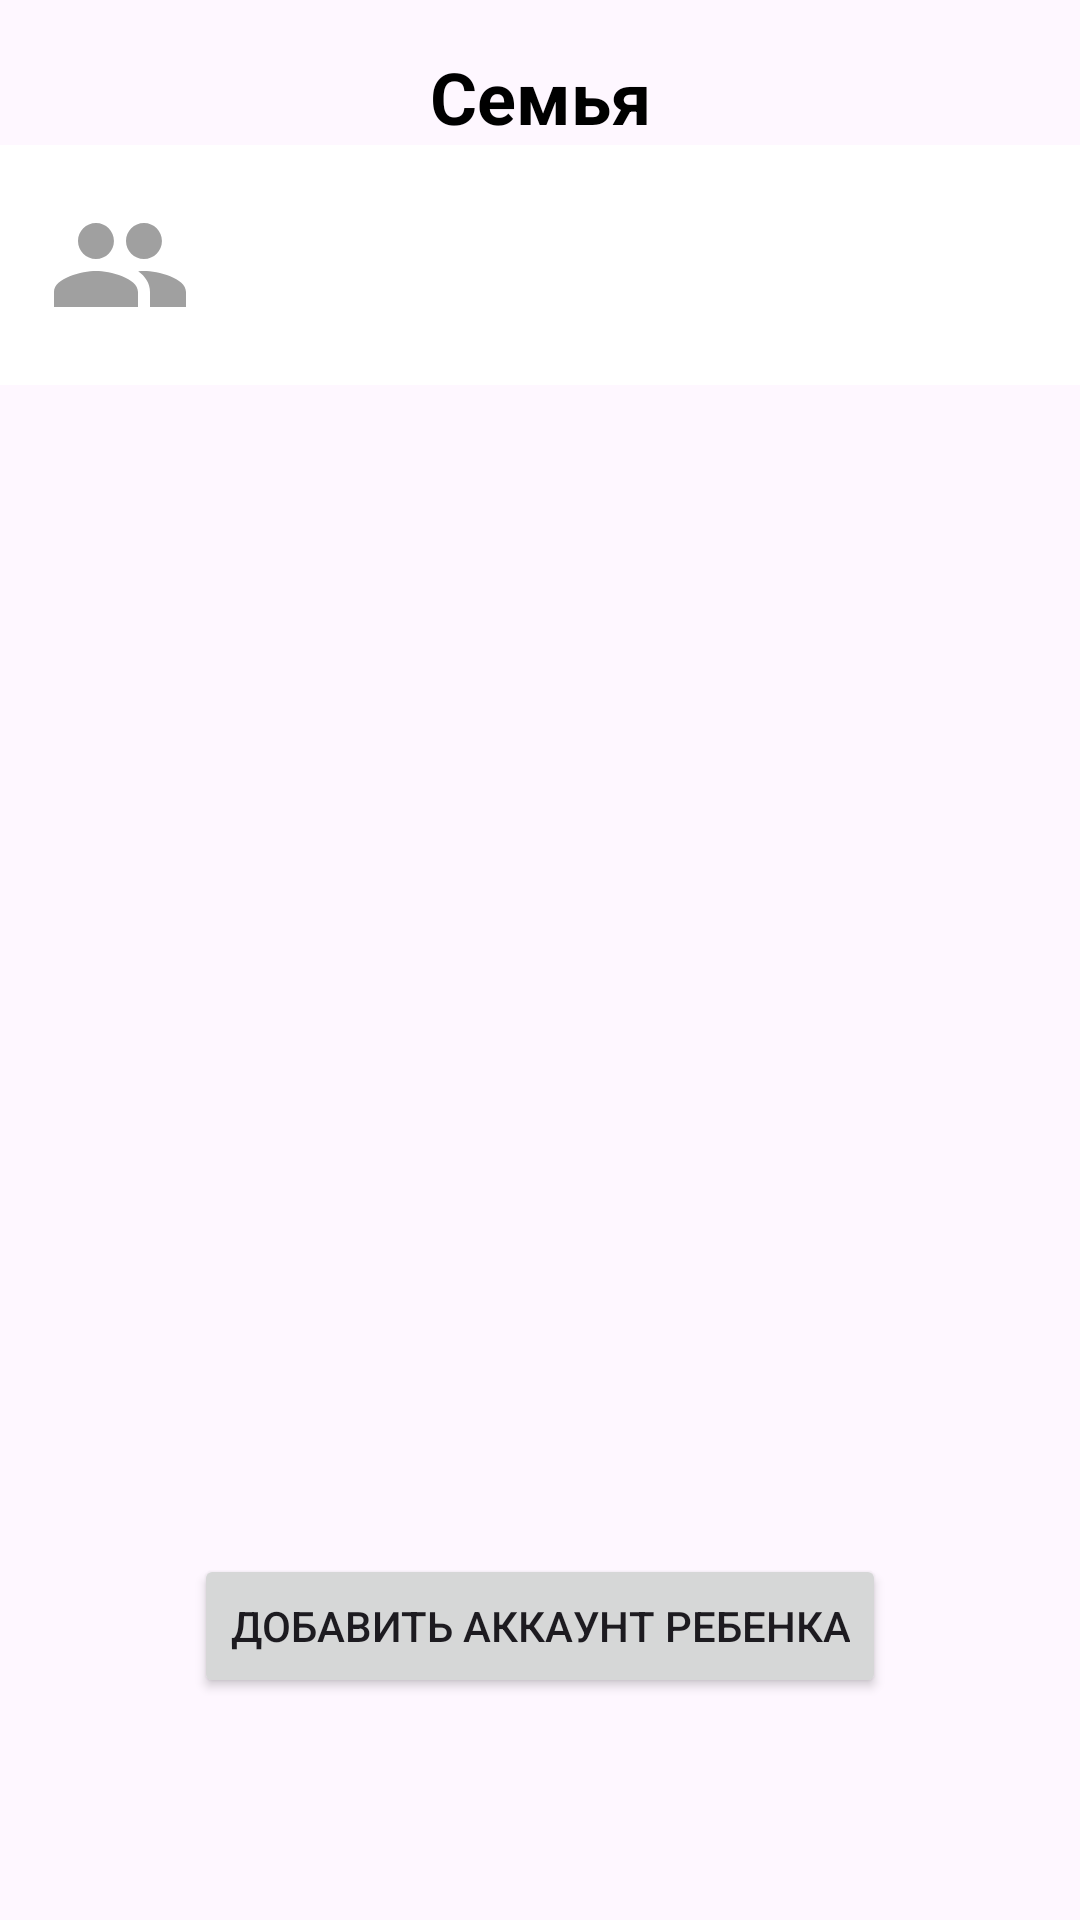

Screen size 1080px×1920px. Icon name, then its box in pixels as BBox(x1, y1, x2, y2):
people: BBox(54, 223, 186, 307)
